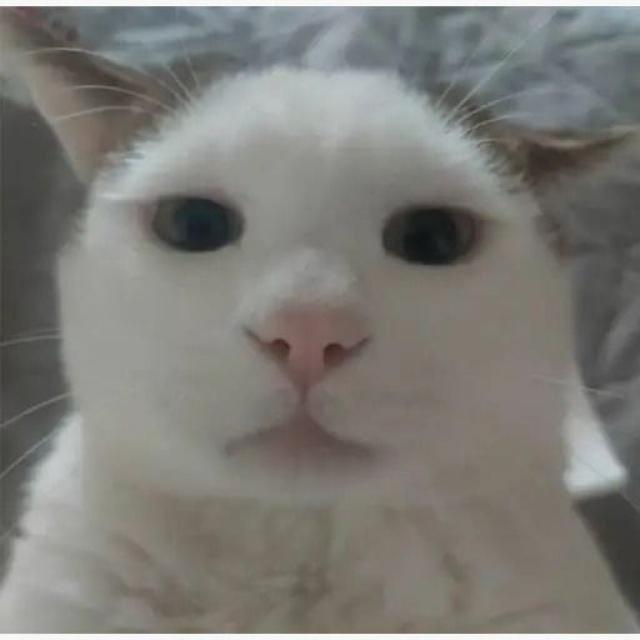da khoe manh: (112, 406, 558, 640)
